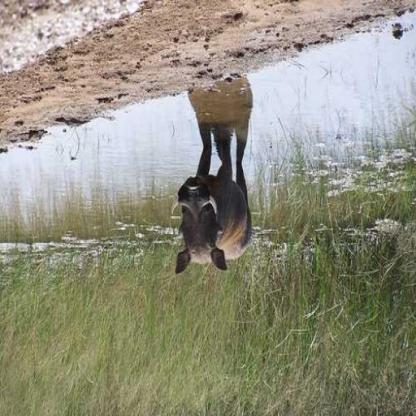boar: (166, 108, 286, 276)
